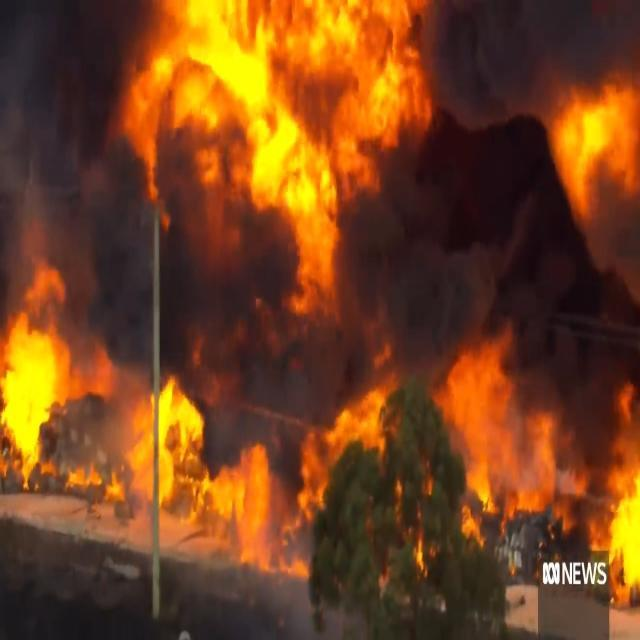fire: (0, 0, 408, 568)
